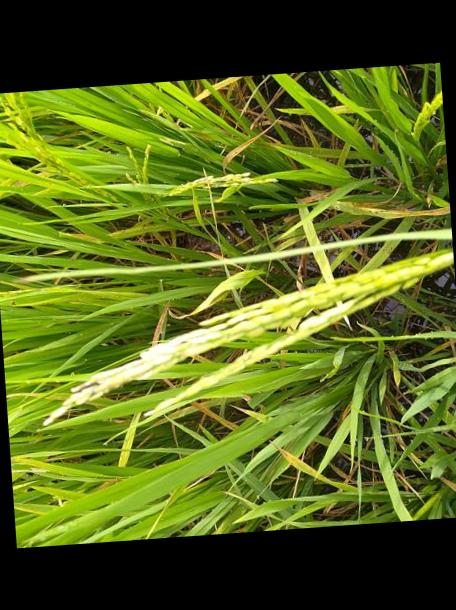Panicle Blight: (44, 329, 203, 424), (301, 297, 355, 329)
